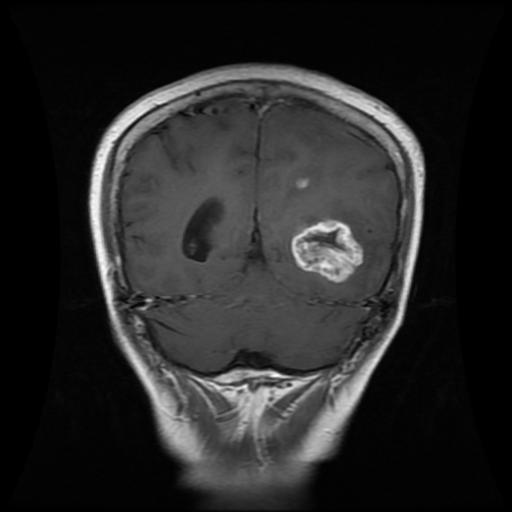Gliomia_tumour: (290, 219, 363, 282)
